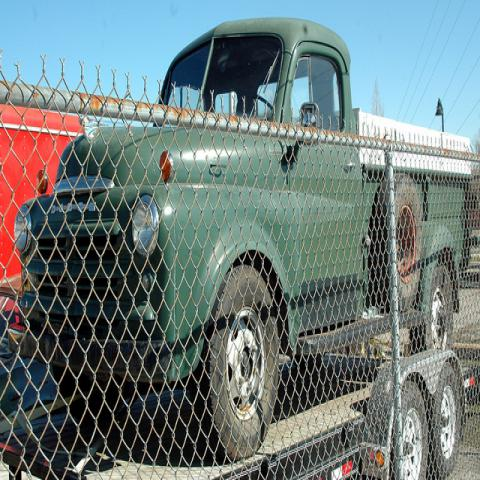truck: (12, 18, 472, 436)
